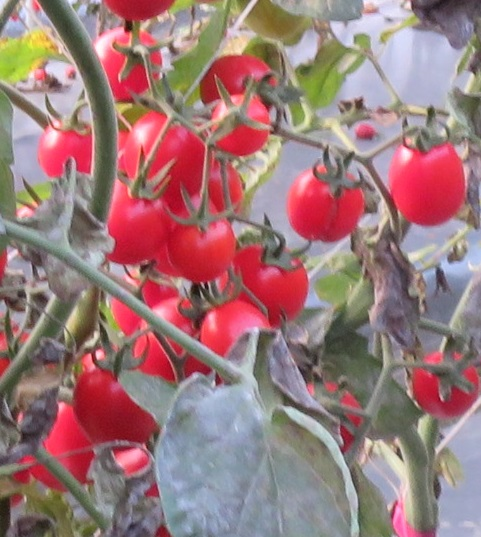red: (389, 139, 468, 227), (72, 371, 159, 450), (129, 107, 206, 193), (287, 169, 371, 244), (167, 196, 240, 282), (235, 237, 310, 318), (103, 173, 168, 264), (408, 348, 481, 414), (92, 26, 165, 91), (204, 91, 271, 156), (34, 118, 99, 176), (202, 306, 272, 359), (198, 53, 274, 100)
